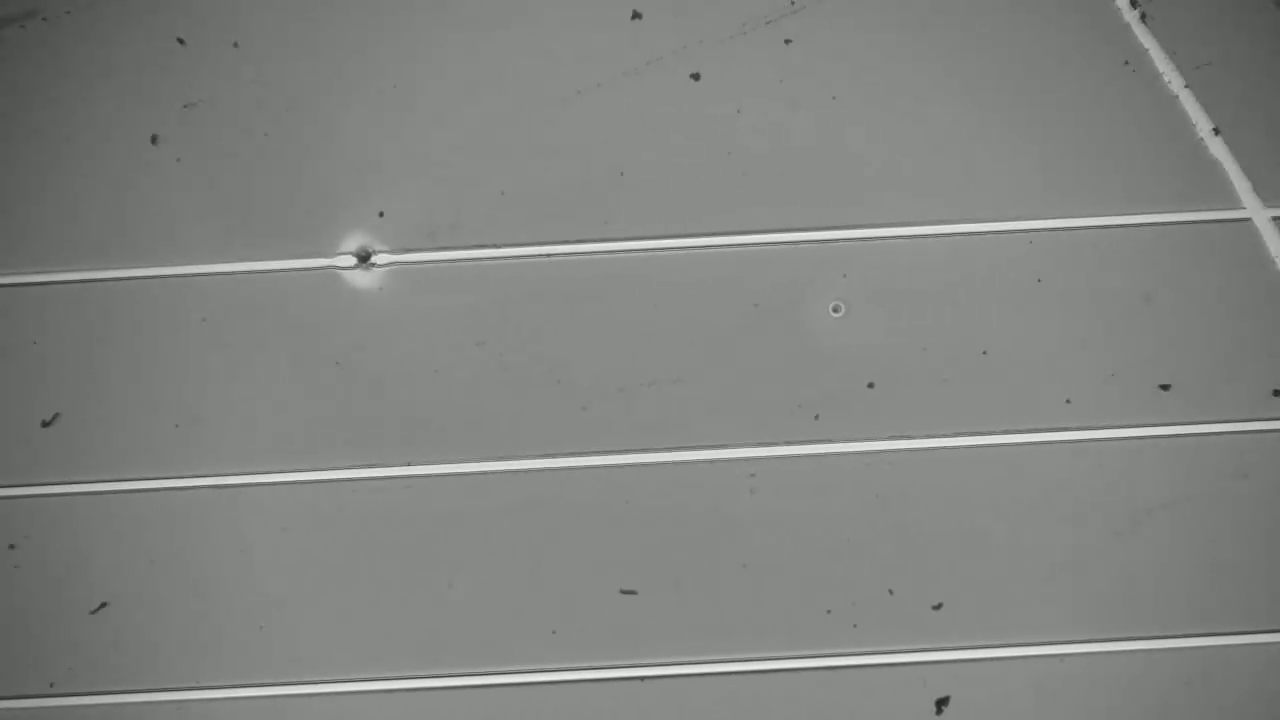stains_enbedded: (345, 231, 390, 285)
